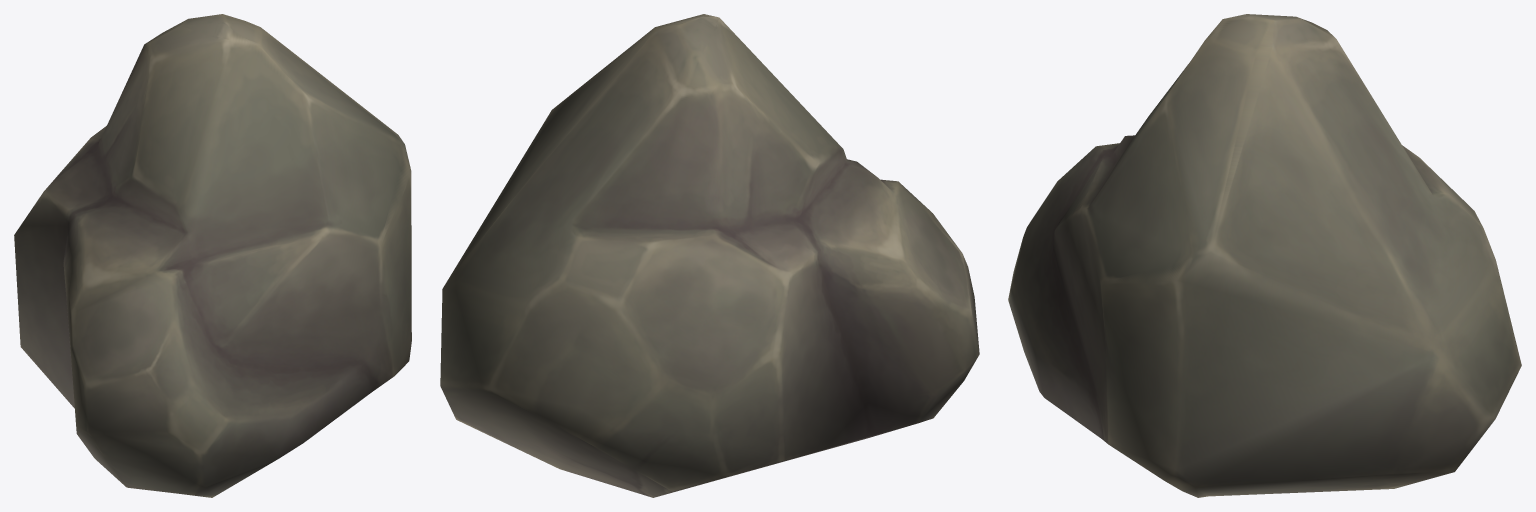
Rendered from SM_Rock_1.FBX.
3 renders of one model, left to right at view 1: azimuth 30°, elevation 25°; view 2: azimuth 150°, elevation 25°; view 3: azimuth 270°, elevation 25°, orthographic. The views are drawn at different scales.
Visible parts, largest first — view 1: Rock 1; view 2: Rock 1; view 3: Rock 1.
Boxes of the visible parts, <box> form: Rock 1: <box>14,14,411,497</box>; Rock 1: <box>440,14,979,497</box>; Rock 1: <box>1008,14,1521,497</box>.
Bounding box in the file's own units: 127 × 135 × 142.
